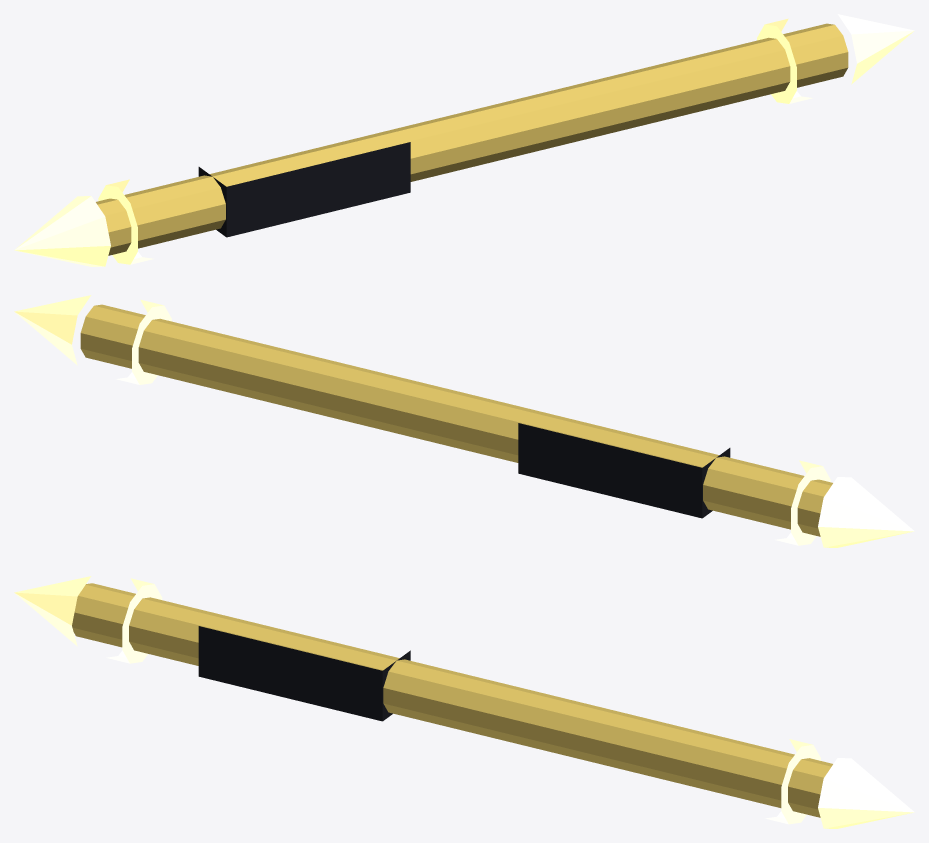
The model's file is monkey-king-bar.glb.
3 renders of one model, top to bottom at view 1: azimuth 30°, elevation 25°; view 2: azimuth 150°, elevation 25°; view 3: azimuth 330°, elevation 25°, orthographic.
Visible parts, largest first — view 1: monkey-king-bar-staff, monkey-king-bar-grip-wrap, monkey-king-bar-tip-l, monkey-king-bar-tip-r, monkey-king-bar-band-r, monkey-king-bar-band-l; view 2: monkey-king-bar-staff, monkey-king-bar-grip-wrap, monkey-king-bar-tip-l, monkey-king-bar-tip-r, monkey-king-bar-band-r, monkey-king-bar-band-l; view 3: monkey-king-bar-staff, monkey-king-bar-grip-wrap, monkey-king-bar-tip-r, monkey-king-bar-tip-l, monkey-king-bar-band-l, monkey-king-bar-band-r.
Part boxes in pixels (box(x1,y1,x2,y2)): monkey-king-bar-staff: box(96, 23, 848, 255); monkey-king-bar-grip-wrap: box(198, 142, 410, 237); monkey-king-bar-tip-l: box(14, 196, 110, 266); monkey-king-bar-tip-r: box(837, 14, 914, 84); monkey-king-bar-band-r: box(757, 18, 812, 103); monkey-king-bar-band-l: box(98, 179, 153, 264); monkey-king-bar-staff: box(80, 304, 832, 536); monkey-king-bar-grip-wrap: box(518, 423, 730, 518); monkey-king-bar-tip-l: box(818, 477, 914, 547); monkey-king-bar-tip-r: box(14, 295, 91, 365); monkey-king-bar-band-r: box(116, 299, 171, 384); monkey-king-bar-band-l: box(775, 460, 830, 545); monkey-king-bar-staff: box(72, 583, 832, 817); monkey-king-bar-grip-wrap: box(198, 626, 410, 721); monkey-king-bar-tip-r: box(818, 758, 914, 828); monkey-king-bar-tip-l: box(14, 576, 91, 646); monkey-king-bar-band-l: box(106, 578, 162, 663); monkey-king-bar-band-r: box(765, 739, 820, 824).
Size of the model in its own units: 1.86 by 0.15 by 0.1427.
